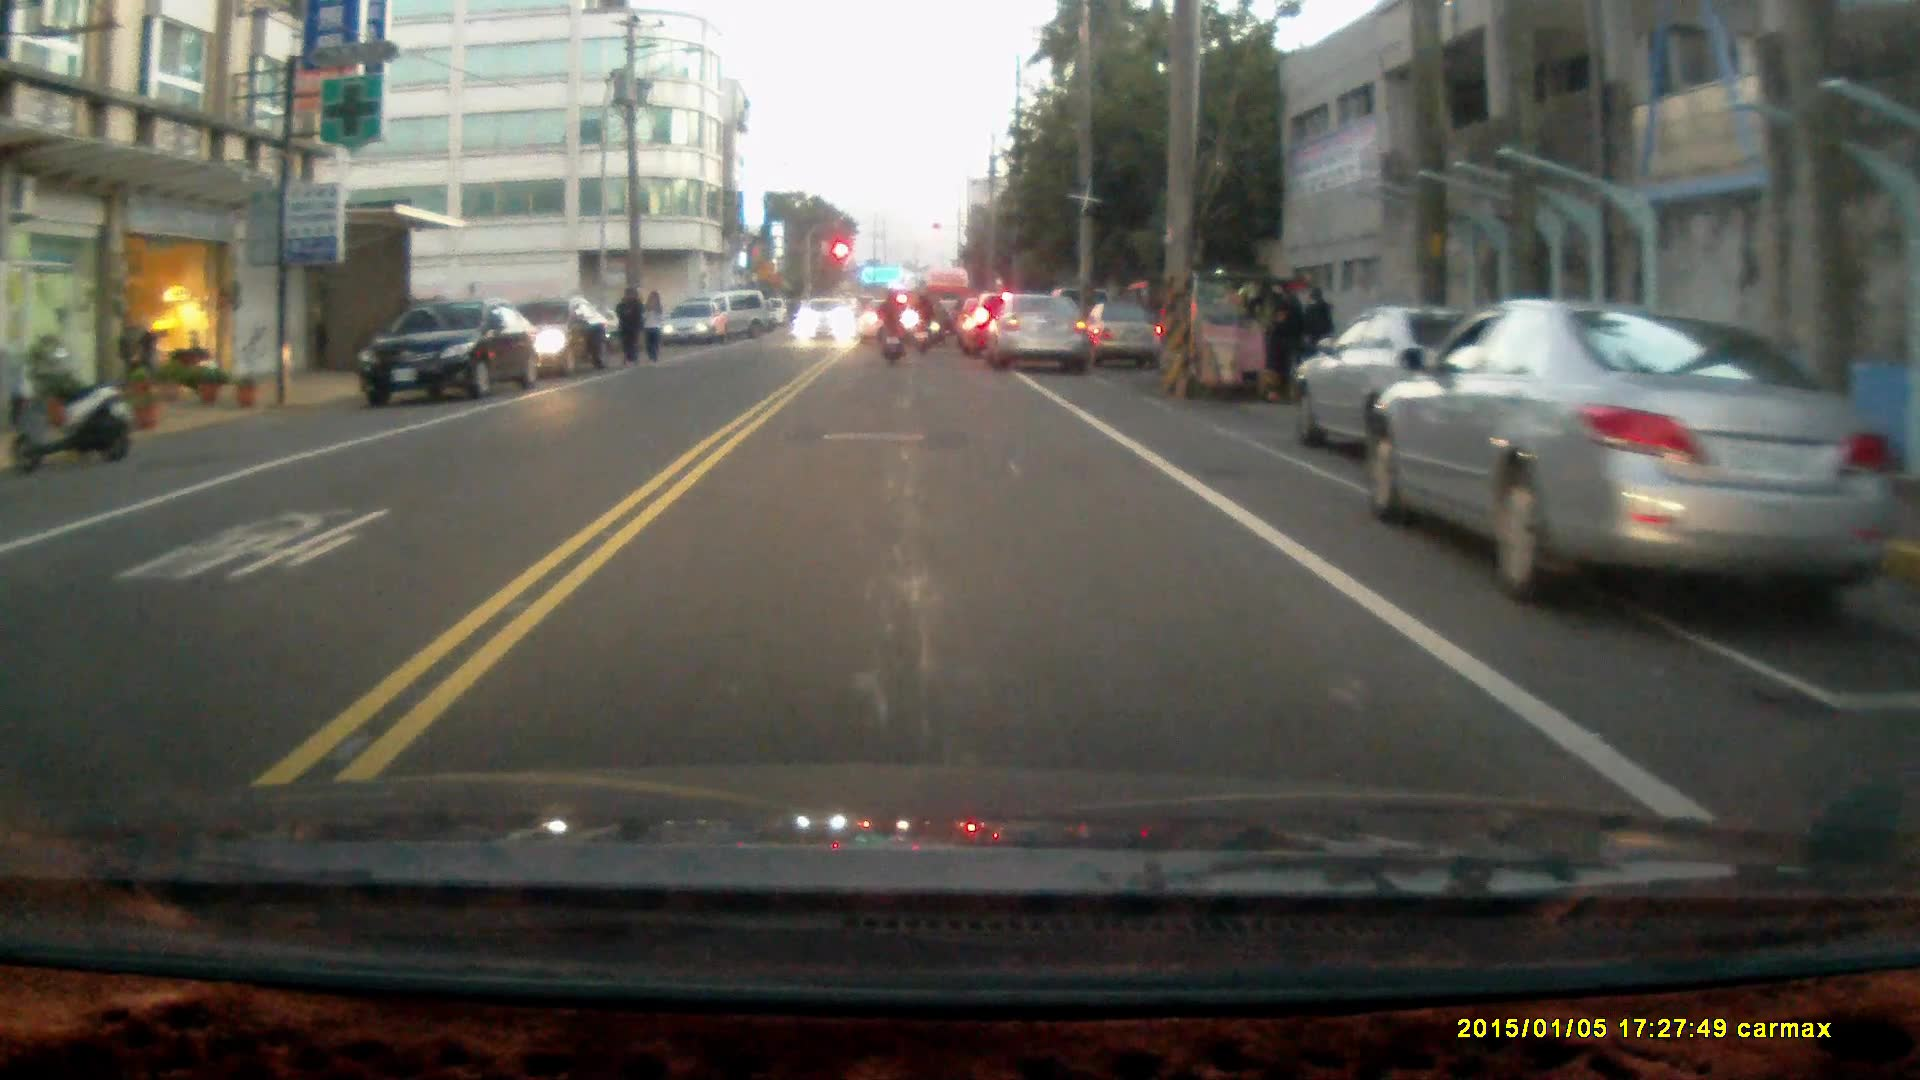pedestrian: (1298, 285, 1335, 381), (613, 282, 645, 366), (640, 286, 663, 367)
rider: (873, 287, 906, 364), (906, 290, 935, 355)
vehicle: (1361, 297, 1889, 607), (1143, 265, 1304, 396), (359, 296, 546, 405), (990, 284, 1097, 367), (663, 300, 730, 347), (794, 295, 857, 344)
